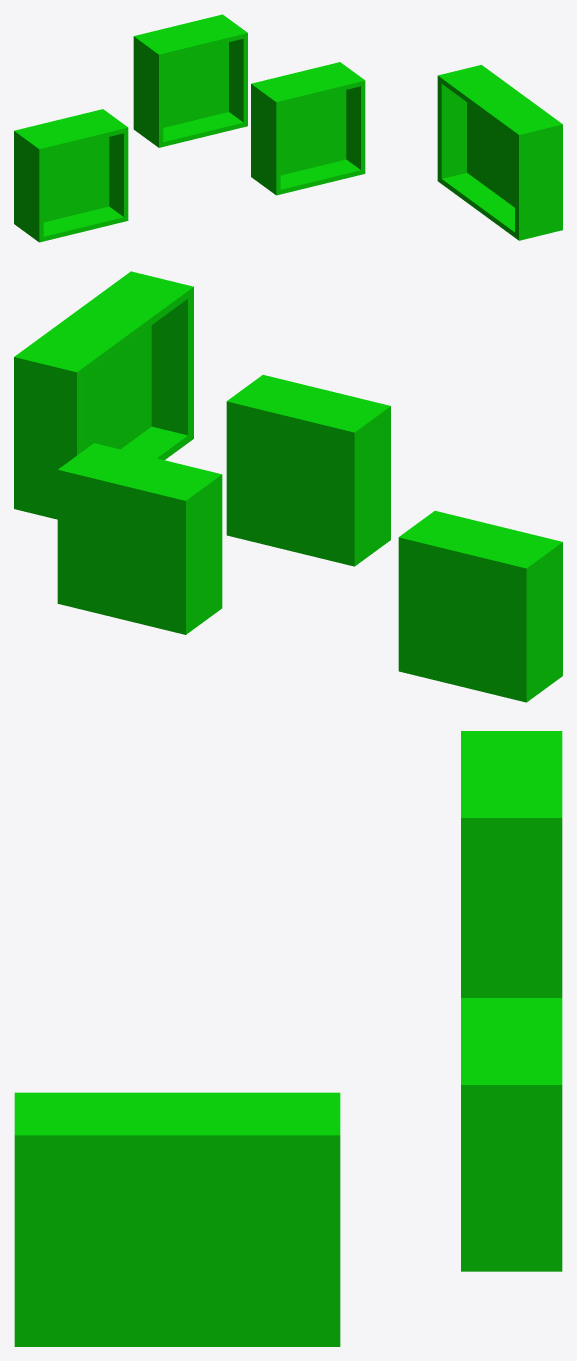
Rendered from Big_Etagere.fbx.
3 renders of one model, top to bottom at view 1: azimuth 30°, elevation 25°; view 2: azimuth 150°, elevation 25°; view 3: azimuth 270°, elevation 25°, orthographic. The views are drawn at different scales.
Visible parts, largest first — view 1: pCube197; view 2: pCube197; view 3: pCube197.
Part boxes in pixels (x1,y1,x2,y2): pCube197: [14, 14, 562, 242]; pCube197: [14, 271, 562, 702]; pCube197: [14, 731, 562, 1346].
Size of the model in its own units: 341 by 134 by 196.
